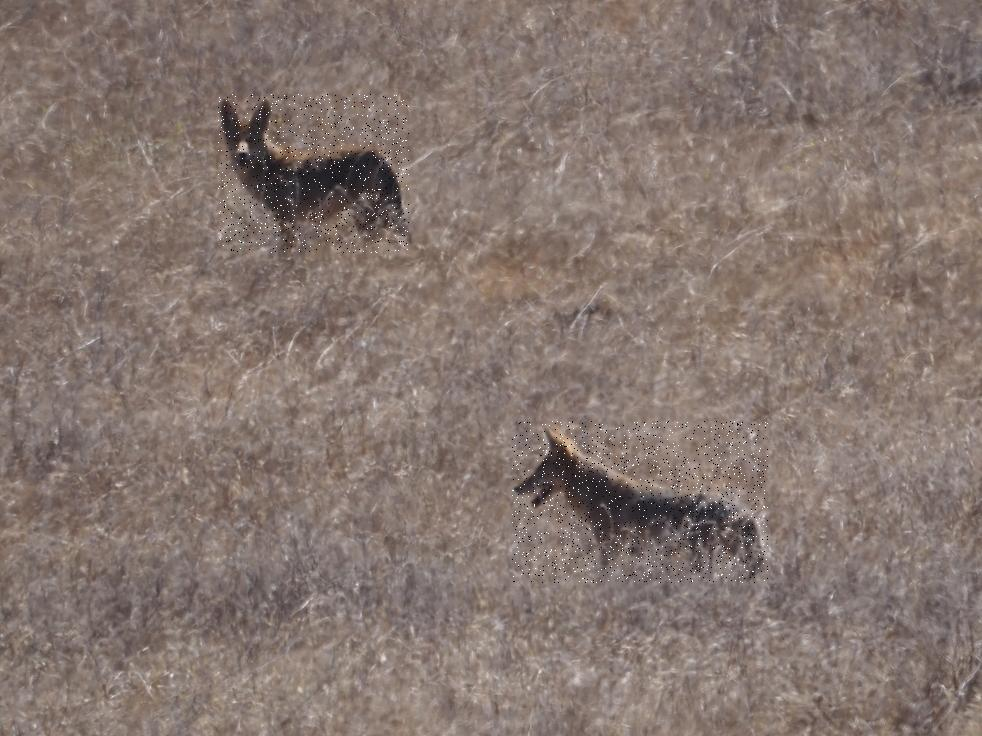Coyote: (512, 422, 768, 584), (218, 95, 409, 254)
